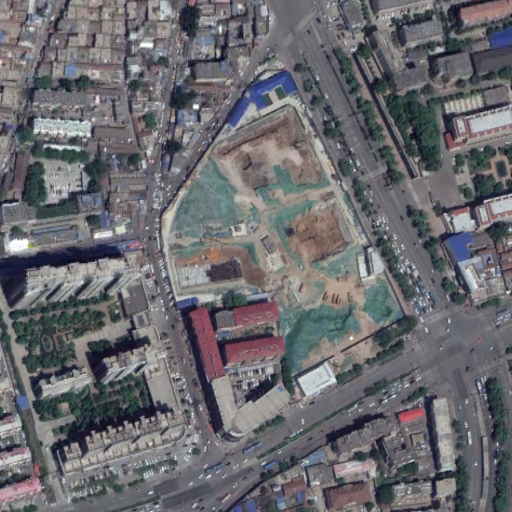cw: (165, 107, 409, 396)
